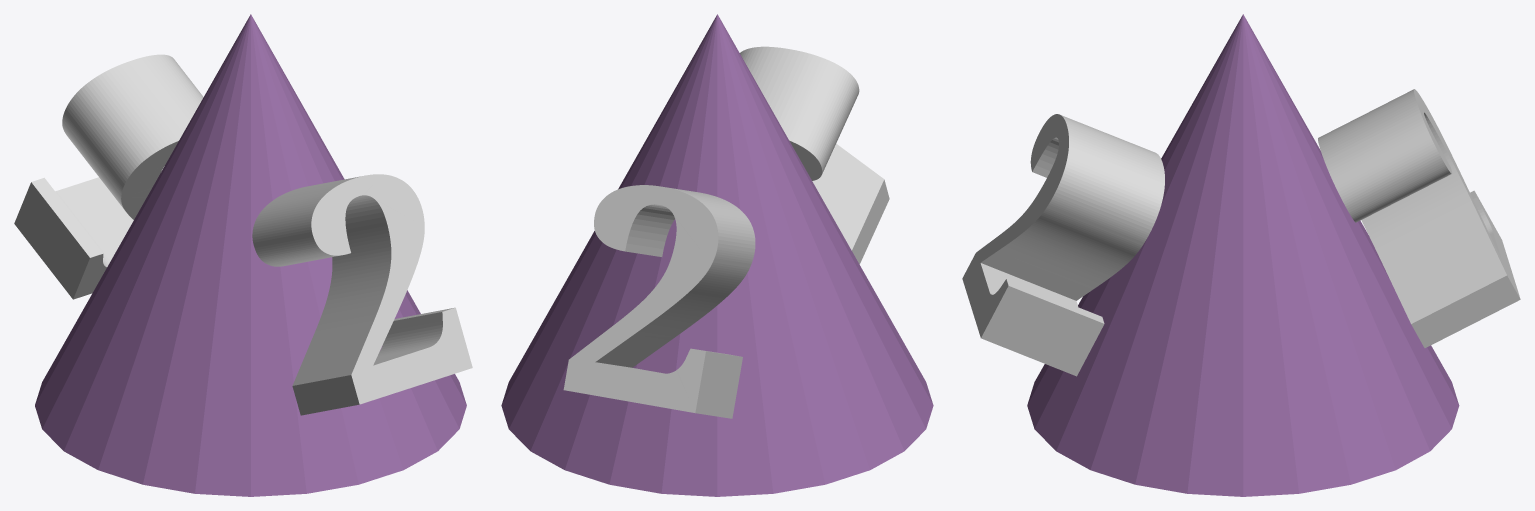
Rendered from number2.glb.
3 renders of one model, left to right at view 1: azimuth 30°, elevation 25°; view 2: azimuth 150°, elevation 25°; view 3: azimuth 270°, elevation 25°, orthographic.
Visible parts, largest first — view 1: Mesh_Mesh_head_geo.001_lambert2SG.001; view 2: Mesh_Mesh_head_geo.001_lambert2SG.001; view 3: Mesh_Mesh_head_geo.001_lambert2SG.001.
Part boxes in pixels (left/top/right/bottom): Mesh_Mesh_head_geo.001_lambert2SG.001: left=14, top=14, right=472, bottom=496; Mesh_Mesh_head_geo.001_lambert2SG.001: left=501, top=14, right=933, bottom=496; Mesh_Mesh_head_geo.001_lambert2SG.001: left=962, top=14, right=1520, bottom=496.
Bounding box in the file's own units: 40 × 40 × 51.69.
